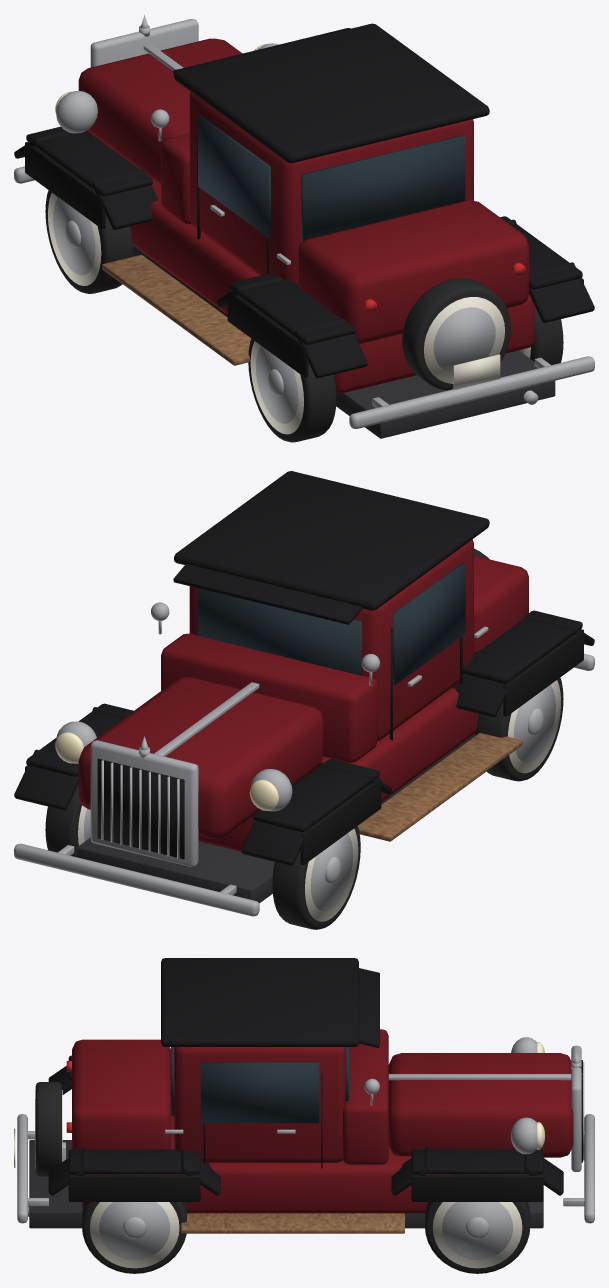
File: vintage_car.glb
3 views of the same model, one above another, from view 1: azimuth 30°, elevation 25°; view 2: azimuth 150°, elevation 25°; view 3: azimuth 270°, elevation 25° (orthographic). The views are drawn at different scales.
Visible parts, largest first — view 1: vintage_car; view 2: vintage_car; view 3: vintage_car.
Boxes of the visible parts, x1,y1,x2,y2 form: vintage_car: [14, 15, 594, 442]; vintage_car: [14, 471, 594, 929]; vintage_car: [14, 958, 594, 1273].
Bounding box in the file's own units: 2.14 × 1.87 × 4.41.
1 material, 1 textured.
